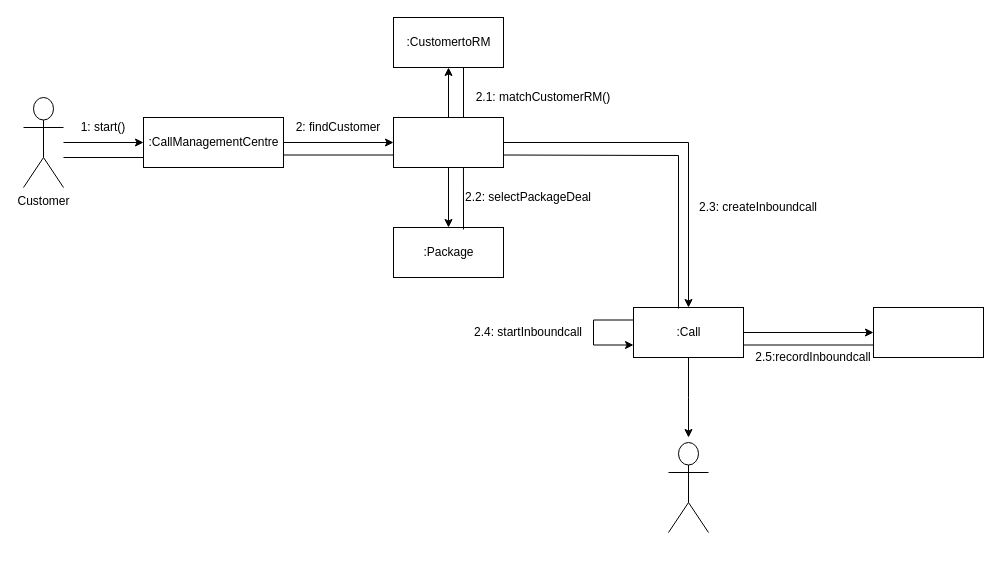
Some shapes in this 1001 by 571 pixel diagram are drawn without their labels. Here are the shapes that lost their labels. From the top down, the centre of each, then its label:
At point (448, 142): ":Customer".
At point (928, 332): ":RecordedCall".
At point (688, 487): "Relationship Manager".
